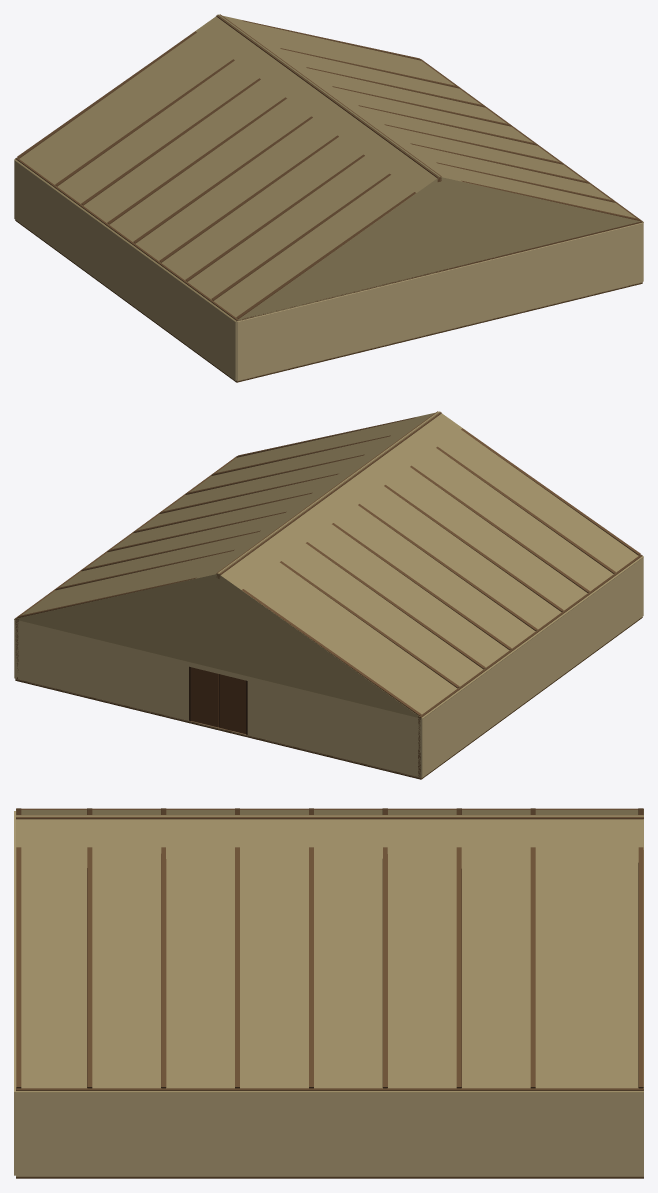
File: TentRoomCrew.glb
The picture shows the model from 3 angles, top to bottom: view 1: azimuth 30°, elevation 25°; view 2: azimuth 150°, elevation 25°; view 3: azimuth 270°, elevation 25°; orthographic projection. The views are drawn at different scales.
Parts seen in each view (by area): view 1: TentRoomCrew.001; view 2: TentRoomCrew.001; view 3: TentRoomCrew.001.
Boxes of the visible parts, x1,y1,x2,y2 form: TentRoomCrew.001: [14, 14, 643, 382]; TentRoomCrew.001: [14, 411, 643, 779]; TentRoomCrew.001: [14, 808, 643, 1178].
Bounding box in the file's own units: 18.12 × 6.64 × 17.05.
